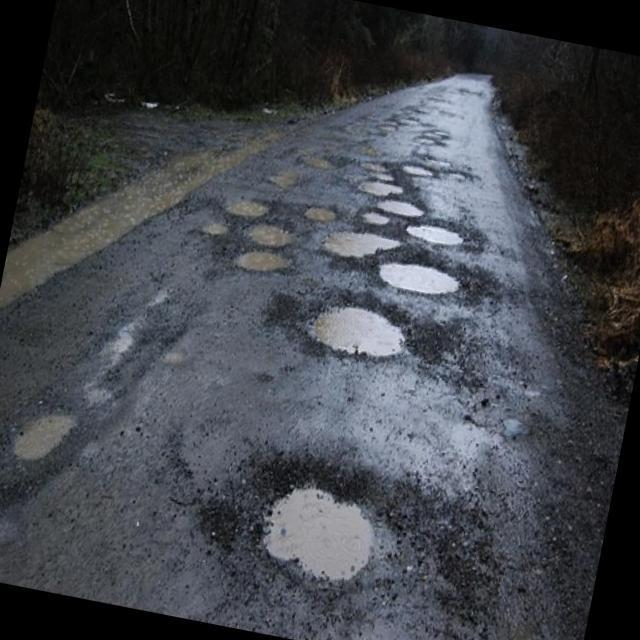Pothole: (264, 488, 398, 583), (359, 181, 483, 243), (226, 200, 292, 274), (312, 309, 403, 359), (13, 414, 75, 463), (379, 264, 458, 296), (385, 157, 479, 182), (319, 232, 400, 260), (415, 131, 449, 157), (303, 205, 341, 225)
